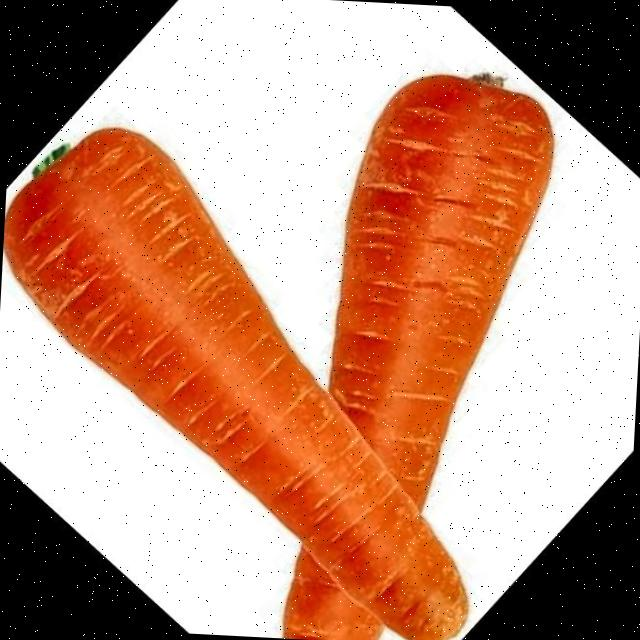carrot: (3, 129, 468, 640), (281, 76, 553, 640)
